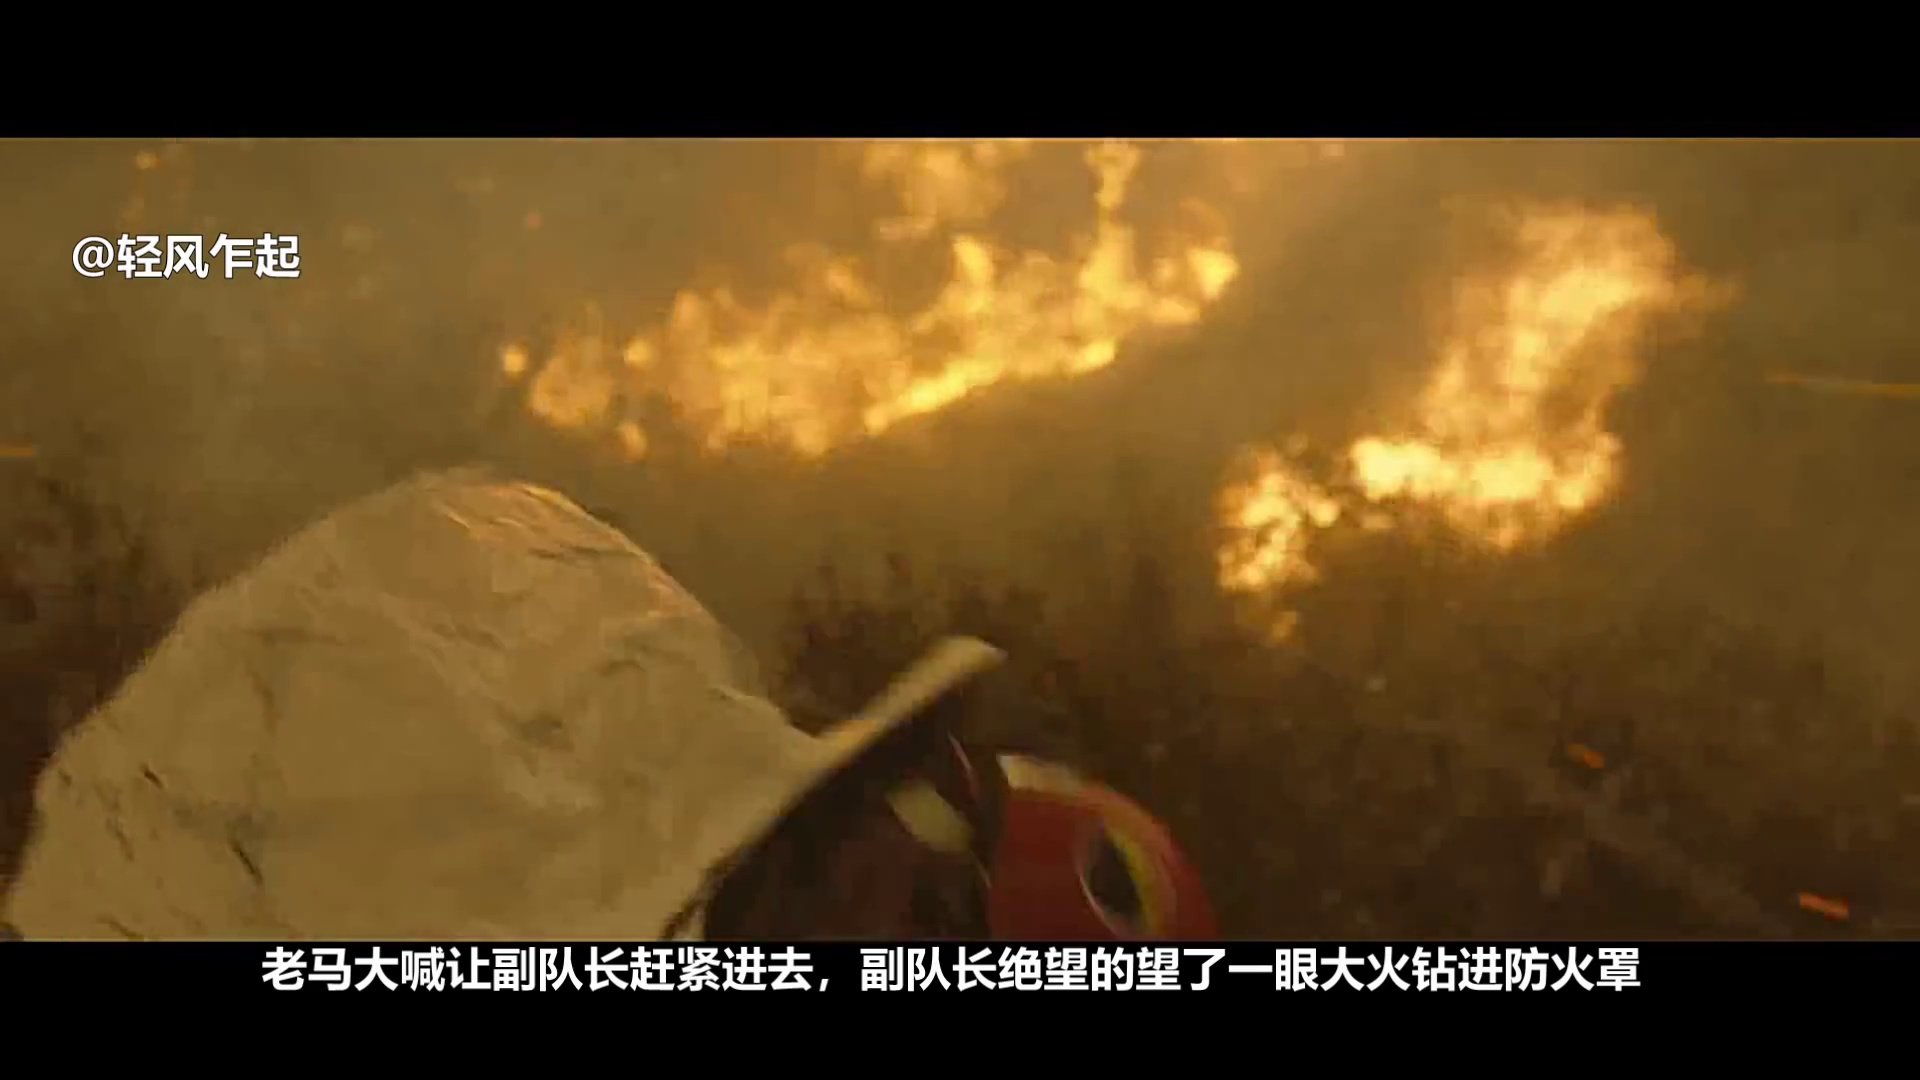fire: (524, 142, 1229, 454), (1218, 208, 1687, 589)
